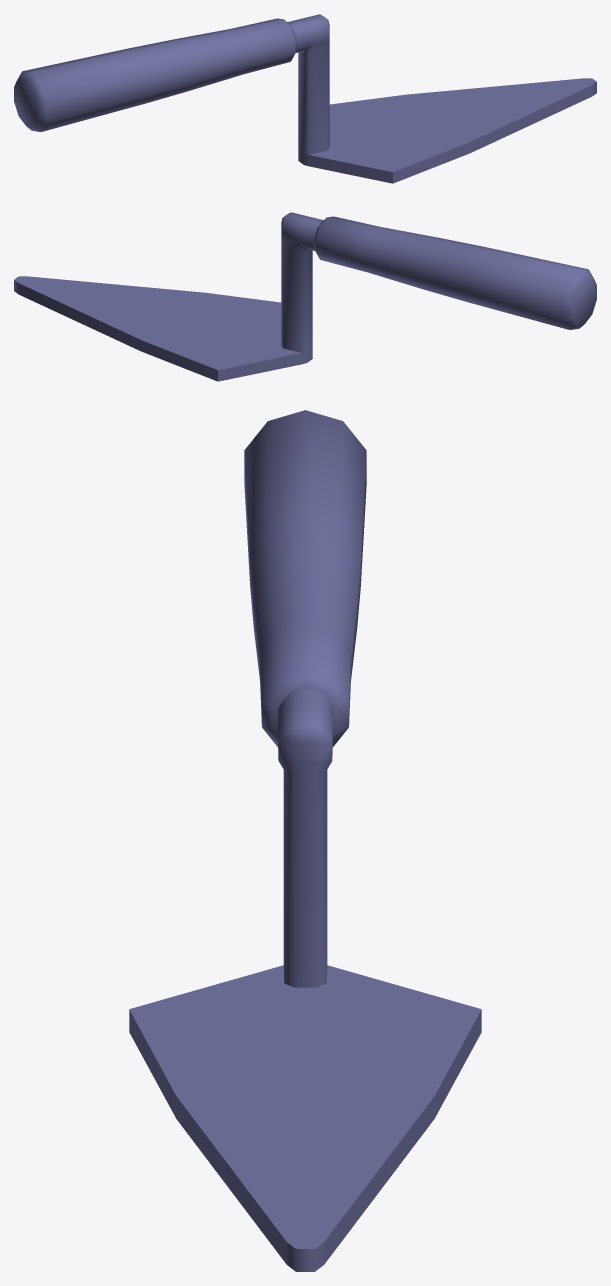
Rendered from toolTrowel.FBX.
3 renders of one model, top to bottom at view 1: azimuth 30°, elevation 25°; view 2: azimuth 150°, elevation 25°; view 3: azimuth 270°, elevation 25°, orthographic. The views are drawn at different scales.
Visible parts, largest first — view 1: trowel; view 2: trowel; view 3: trowel.
Part boxes in pixels (left/top/right/bottom): trowel: left=14, top=14, right=596, bottom=183; trowel: left=14, top=212, right=596, bottom=381; trowel: left=129, top=410, right=481, bottom=1271.
Bounding box in the file's own units: 0.2607 × 0.0684 × 0.07.
